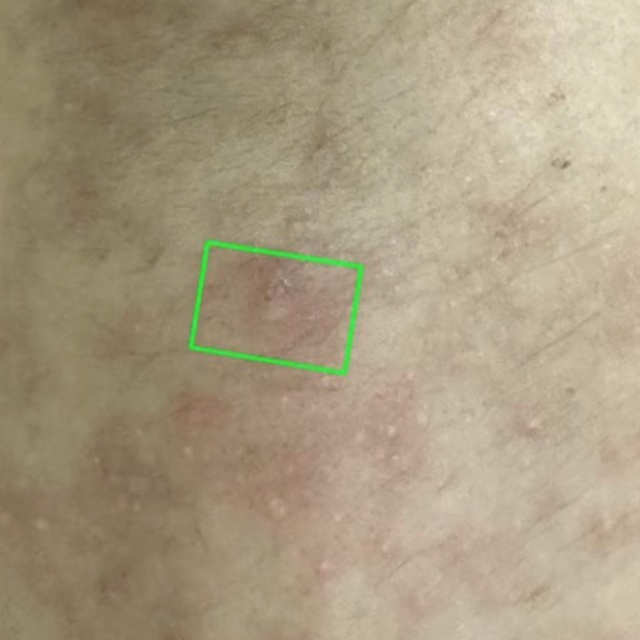Scabies: (191, 241, 362, 372)
